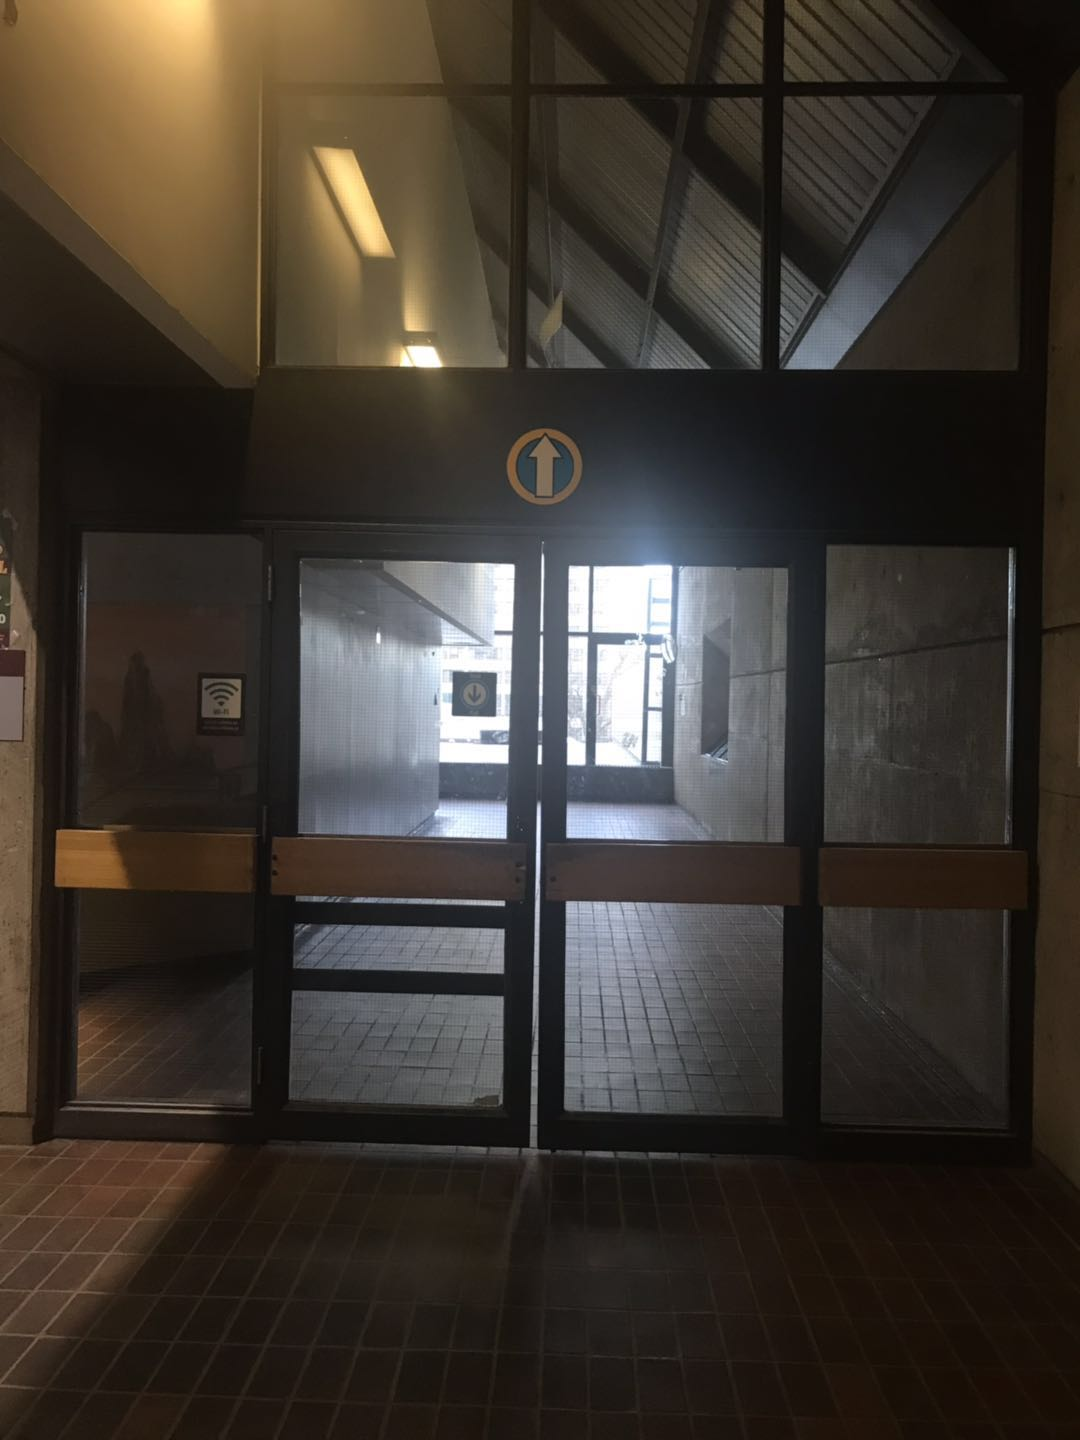door: (258, 527, 813, 1152)
sign: (509, 431, 587, 506), (200, 675, 244, 735), (452, 669, 496, 713)
